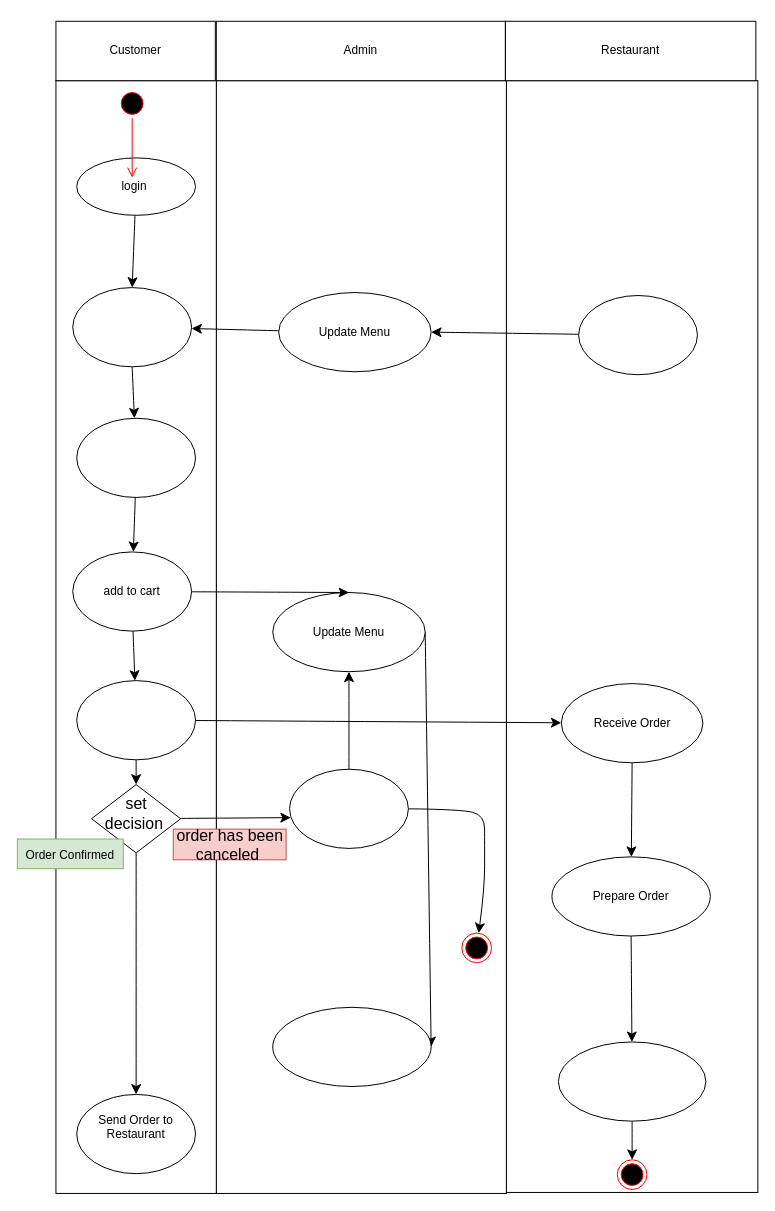
Some shapes in this 775 by 1211 pixel diagram are drawn without their labels. The centre of each missing label's shape, as x and y in pixels:
"Browse Menu" belongs at (x=132, y=327).
"cancel the order" belongs at (x=348, y=808).
"Mark as Ready" belongs at (x=631, y=1081).
"menu" belongs at (x=637, y=335).
"Monitor Order" belongs at (x=351, y=1046).
"Review Cart" belongs at (x=136, y=457).
"Select Payment Method" belongs at (x=136, y=720).
